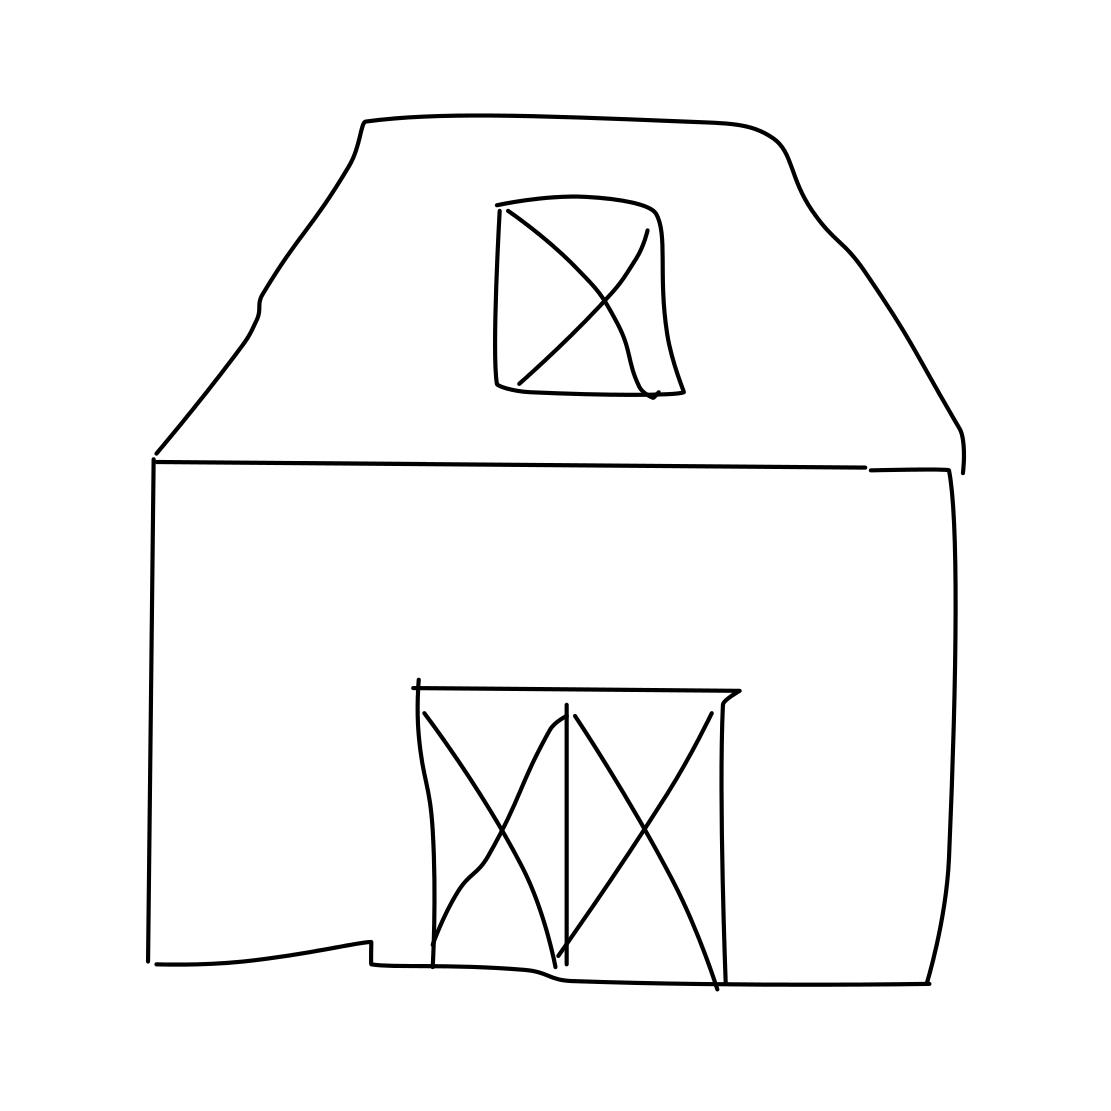House: (73, 76, 1030, 1003)
